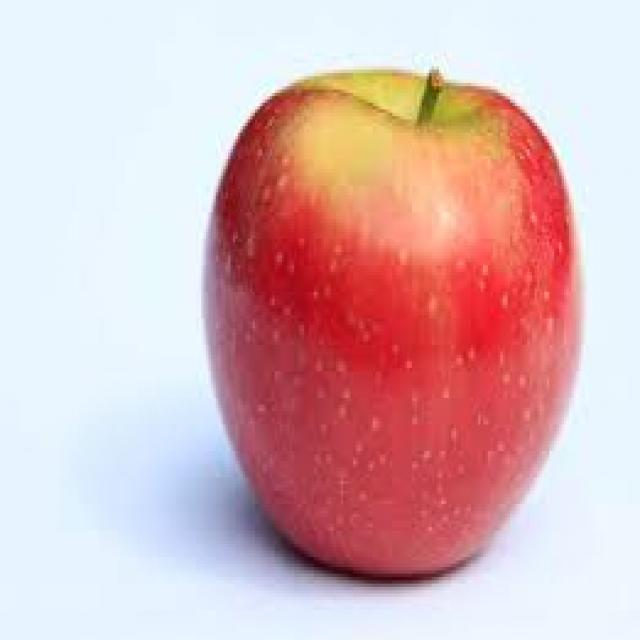organic waste: (201, 67, 581, 580)
